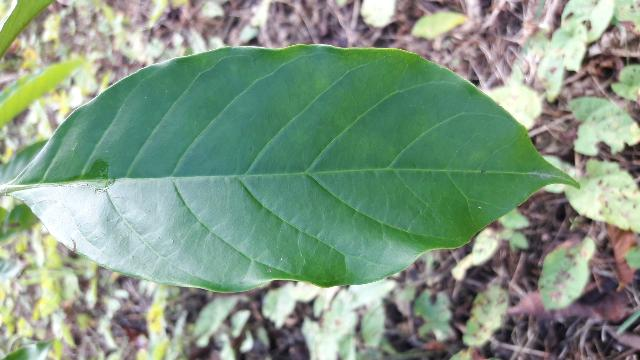healthy: (13, 49, 578, 291)
